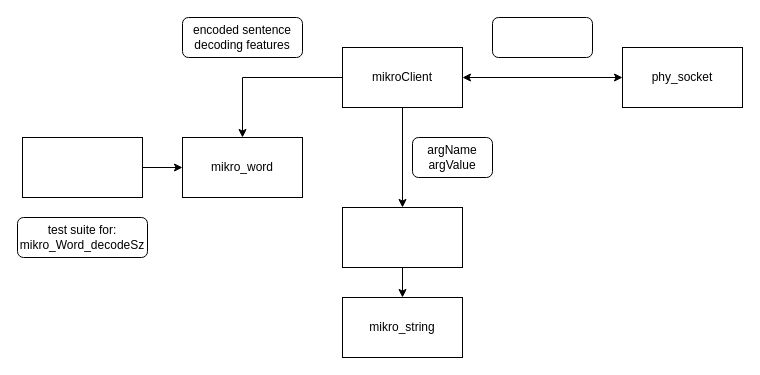
The diagram is 760 pixels wide and 375 high, and some of its shapes have lost their labels. The shapes that lost their labels are listed below. From the top down, each one's centre as x and y in pixels, then its label:
the point at 542,37: I/O features
the point at 82,167: mikro_validation
the point at 402,237: mikro_cli_parser
